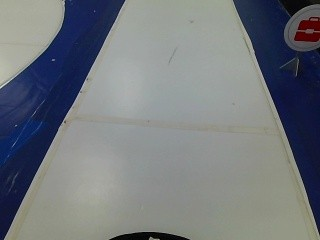company: (285, 10, 318, 49)
